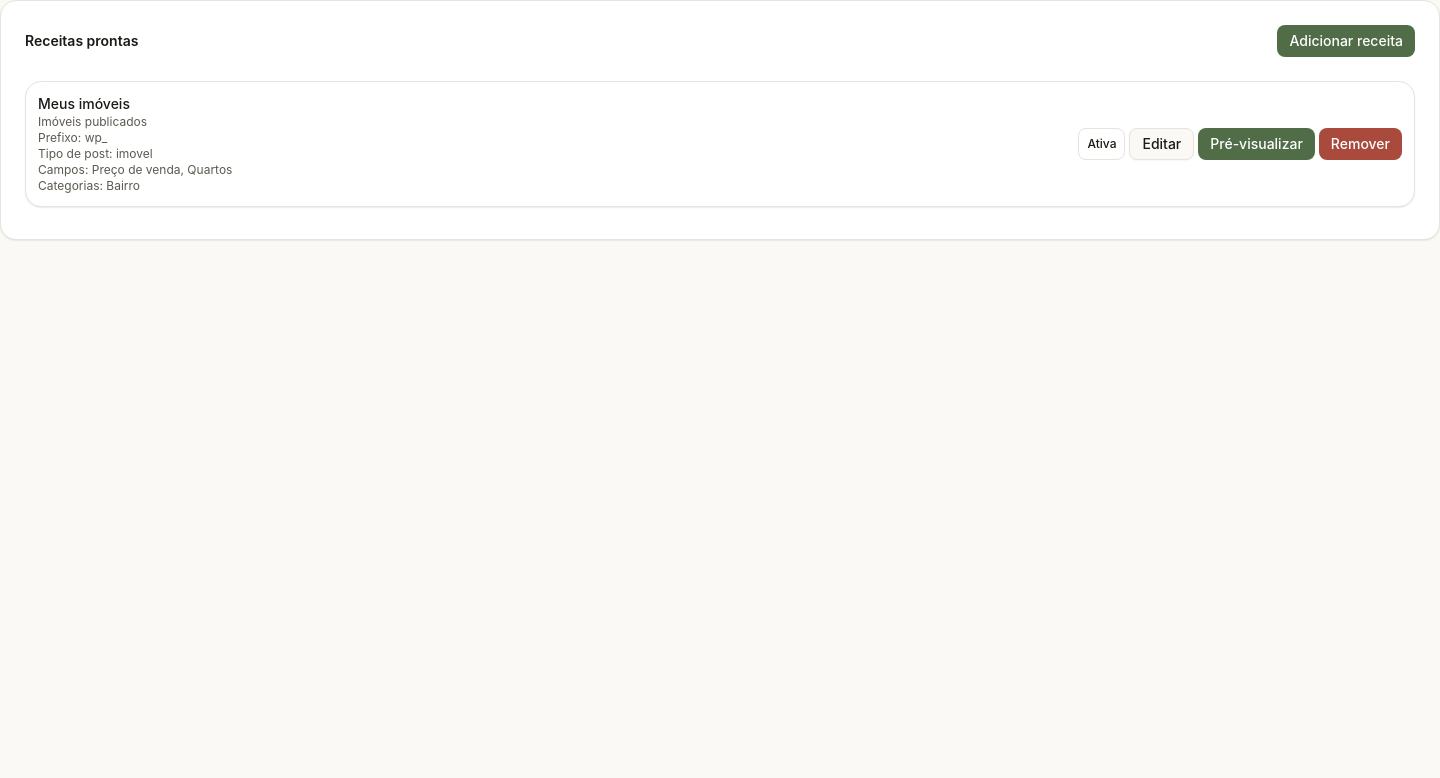
Scenario: Receitas prontas — escolher a receita ao adicionar › editar uma instância salva NÃO mostra a escolha de receita
This screenshot has width=1440, height=778.
Click the button "Editar". click: click(1162, 144)
box: top-left (1130, 128), bottom-right (1194, 160)
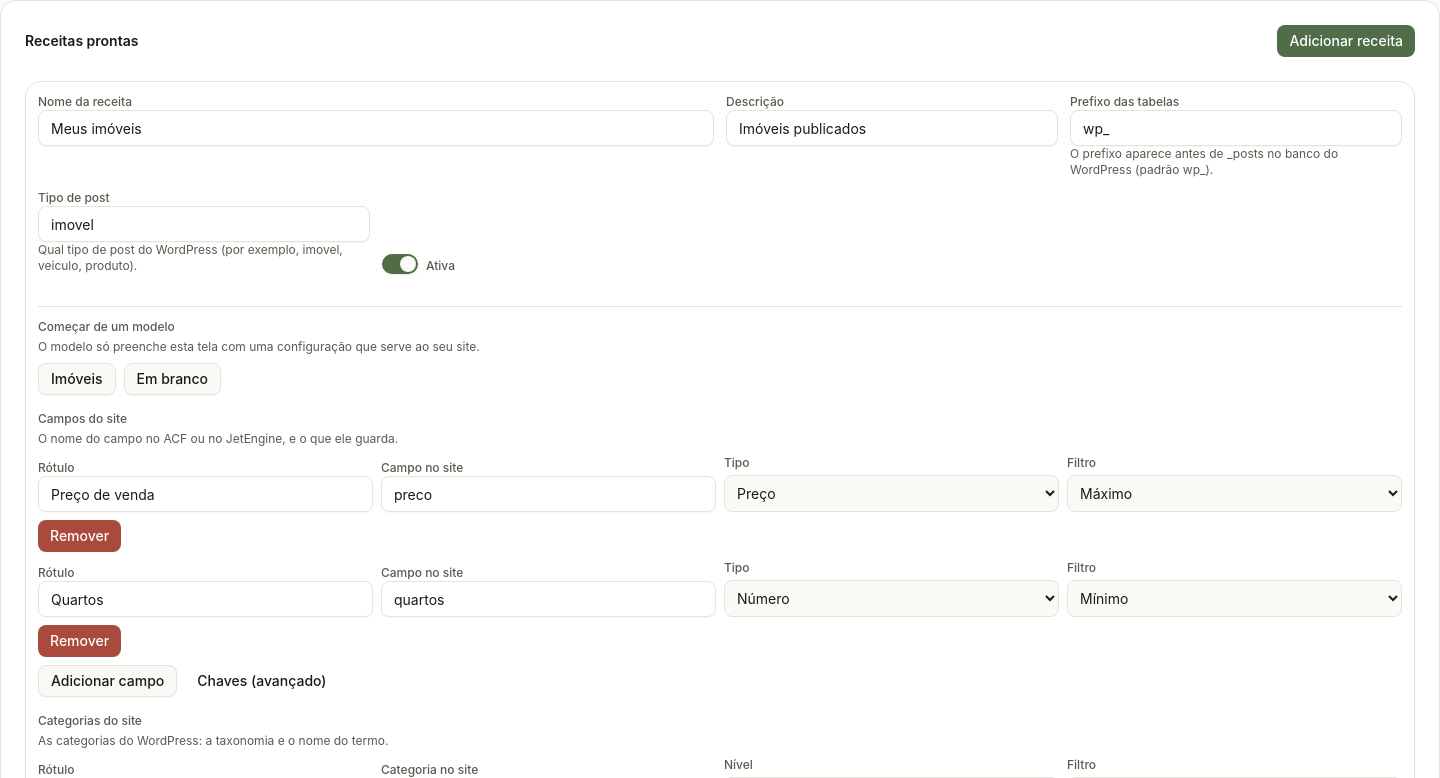
Check: the field labelled "Tipo de post" holds "imovel", box top-left (38, 206), bottom-right (370, 242)
Check: the element named "Preço de venda" is shown, box top-left (38, 455), bottom-right (1402, 552)
